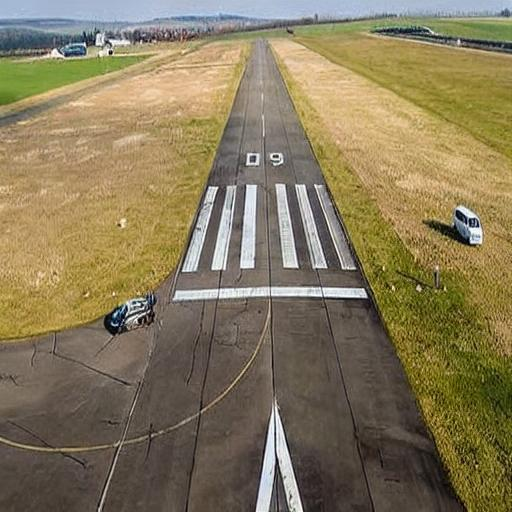oil_spill: (191, 362, 210, 401)
